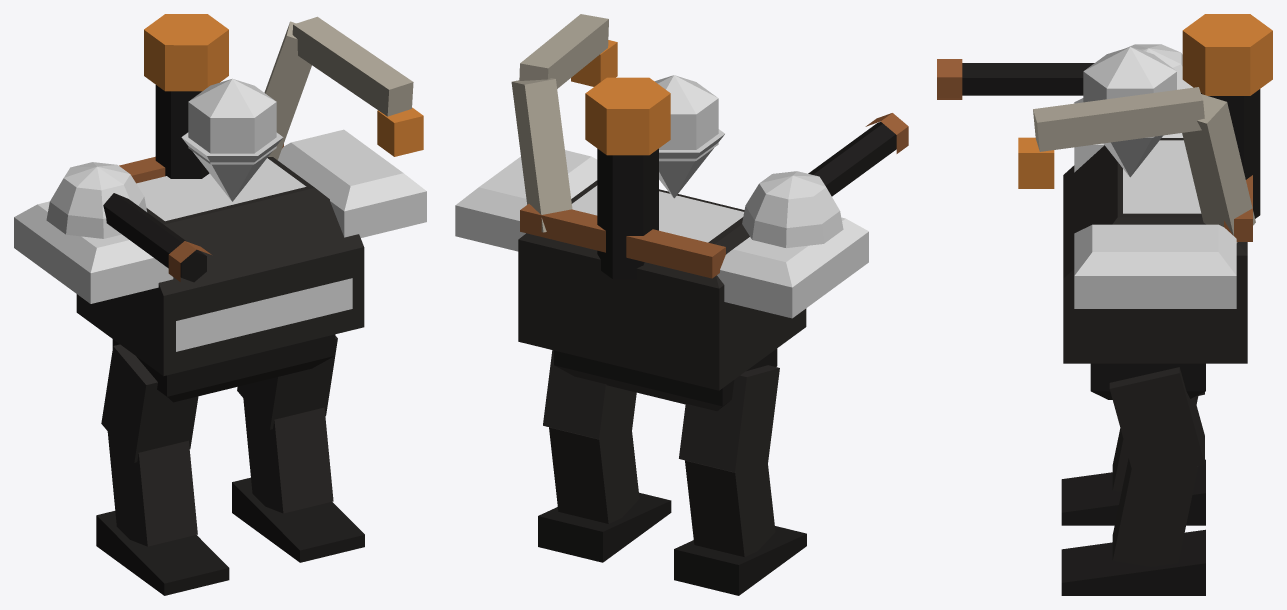
The model's file is cmd_commander.9d8d7efe.glb.
3 renders of one model, left to right at view 1: azimuth 30°, elevation 25°; view 2: azimuth 150°, elevation 25°; view 3: azimuth 270°, elevation 25°, orthographic. The views are drawn at different scales.
Parts seen in each view (by area): view 1: lod0; view 2: lod0; view 3: lod0.
Boxes of the visible parts, bbox=[...] form: lod0: bbox=[14, 14, 426, 595]; lod0: bbox=[455, 14, 908, 595]; lod0: bbox=[937, 14, 1272, 595].
Size of what is drawn, in the model's own units: 2.28 by 3.14 by 1.86.
